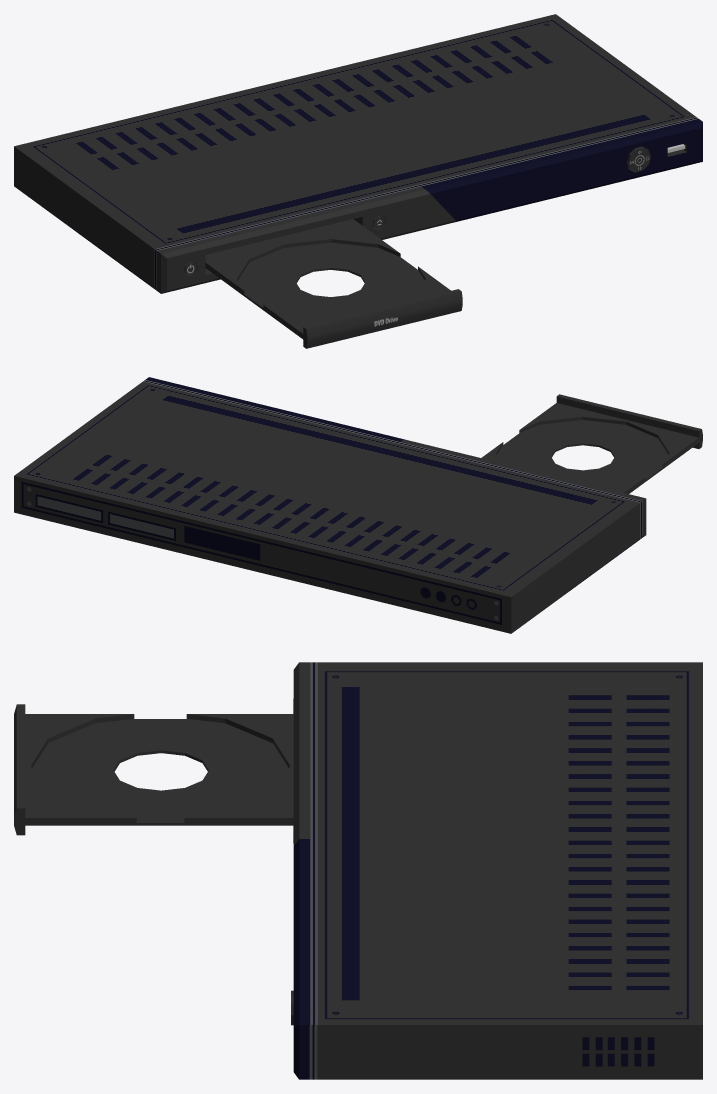
The picture shows the model from 3 angles, top to bottom: view 1: azimuth 30°, elevation 25°; view 2: azimuth 150°, elevation 25°; view 3: azimuth 270°, elevation 25°; orthographic projection. The views are drawn at different scales.
Visible parts, largest first — view 1: DVD_player, Drive; view 2: DVD_player, Drive; view 3: DVD_player, Drive.
Part boxes in pixels (bbox=[...]): DVD_player: bbox=[14, 14, 702, 293]; Drive: bbox=[205, 219, 462, 348]; DVD_player: bbox=[14, 377, 646, 633]; Drive: bbox=[481, 394, 702, 493]; DVD_player: bbox=[291, 662, 702, 1079]; Drive: bbox=[14, 704, 293, 835].
Bounding box in the file's own units: 1536 × 108 × 1233.
1 material, 1 textured.
